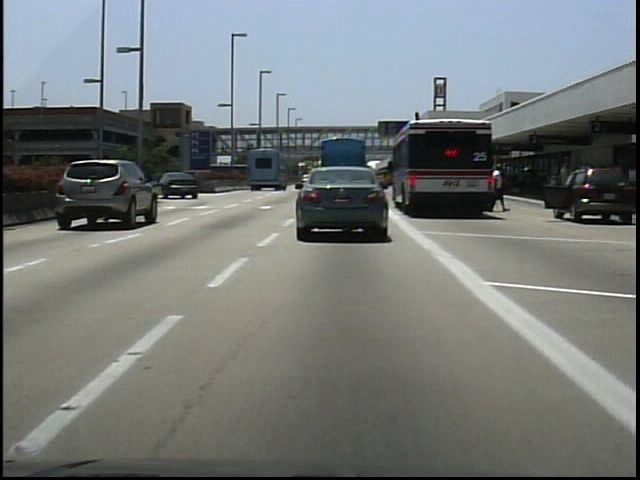person: (488, 158, 510, 220)
